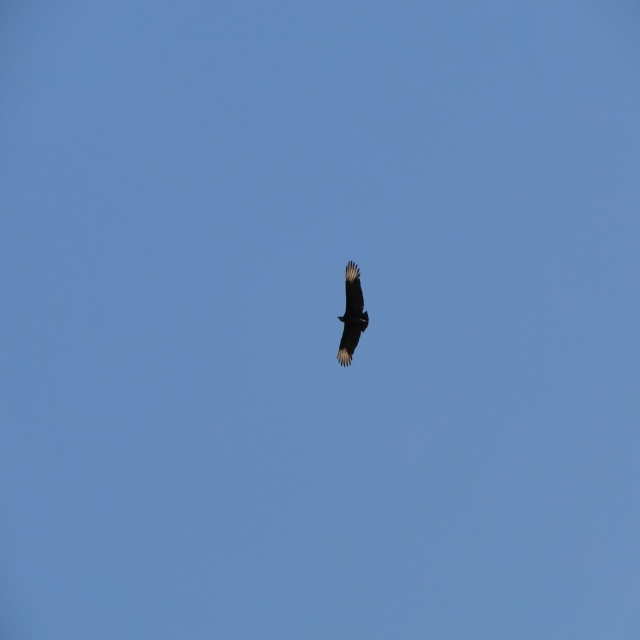Eagle: (336, 259, 371, 371)
